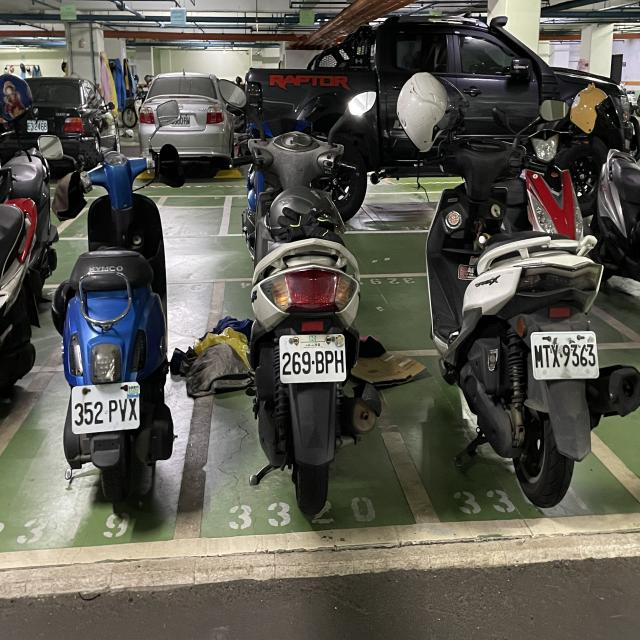license-plate: (71, 381, 140, 435), (279, 334, 347, 384), (530, 331, 599, 380), (27, 119, 48, 132)
